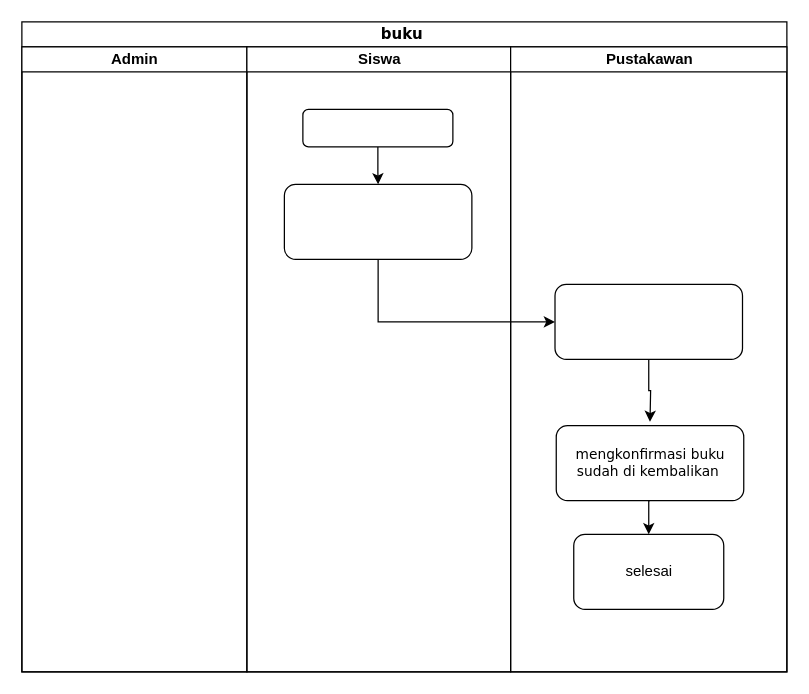
Some shapes in this 809 by 694 pixel diagram are drawn without their labels. Each missing label, with the centre of its shape:
Datang ke perpus: (377,127)
melihat data peminjaman: (648,321)
mengembalikan buku yang sudah di pinjam: (377,221)
